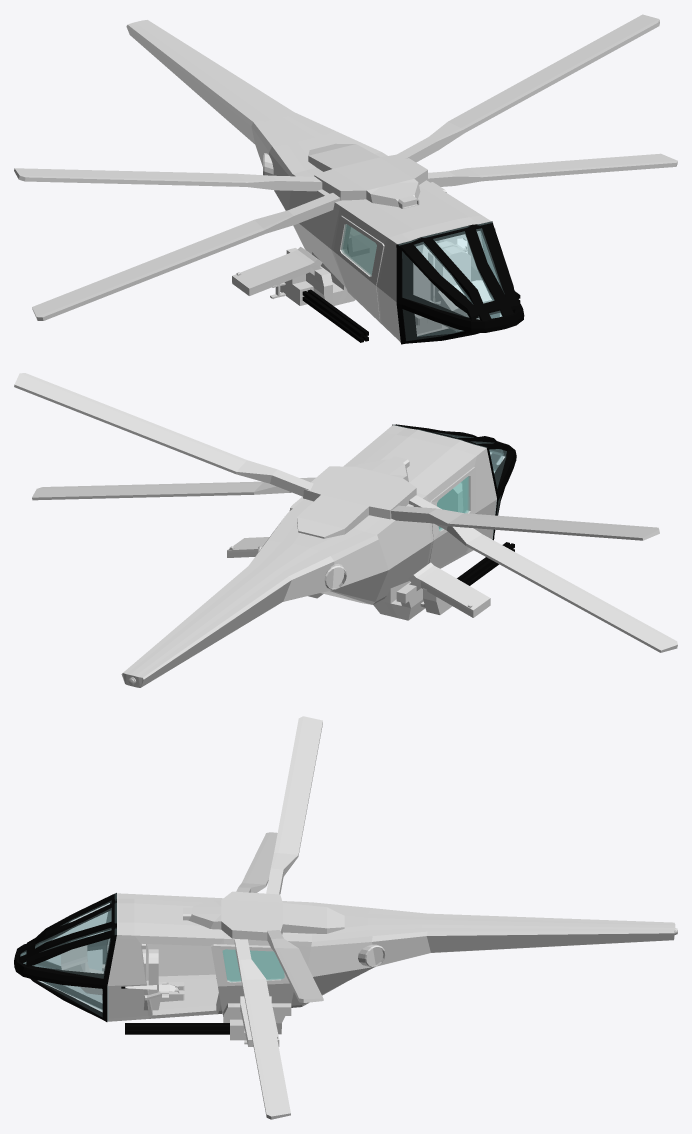
The model's file is dragonflycombine.fbx.
3 views of the same model, one above another, from view 1: azimuth 30°, elevation 25°; view 2: azimuth 150°, elevation 25°; view 3: azimuth 270°, elevation 25° (orthographic). The views are drawn at different scales.
Visible parts, largest first — view 1: cockpit, forwardblade.001, backblade, backblade.001, forwardblade, door_right, minigun.001; view 2: cockpit, backblade, forwardblade.001, backblade.001, forwardblade, door_right, minigun.001; view 3: cockpit, forwardblade, backblade.001, door_left, backblade, door_right, minigun, forwardblade.001.
Boxes of the visible parts, x1,y1,x2,y2 form: cockpit: [126, 20, 524, 344]; forwardblade.001: [32, 193, 341, 320]; backblade: [395, 14, 659, 162]; backblade.001: [14, 168, 322, 191]; forwardblade: [427, 153, 677, 186]; door_right: [333, 215, 384, 319]; minigun.001: [302, 289, 368, 342]; cockpit: [121, 424, 516, 687]; backblade: [14, 373, 313, 496]; forwardblade.001: [409, 495, 677, 652]; backblade.001: [391, 505, 659, 540]; forwardblade: [32, 477, 315, 500]; door_right: [428, 467, 476, 567]; minigun.001: [457, 542, 514, 585]; cockpit: [14, 891, 677, 1046]; forwardblade: [234, 939, 290, 1119]; backblade.001: [266, 716, 322, 894]; door_left: [211, 944, 293, 1016]; backblade: [267, 930, 323, 1002]; door_right: [147, 944, 215, 976]; minigun: [125, 1023, 229, 1034]; forwardblade.001: [236, 832, 277, 892].
Bounding box in the file's own units: 604 × 148 × 597.
